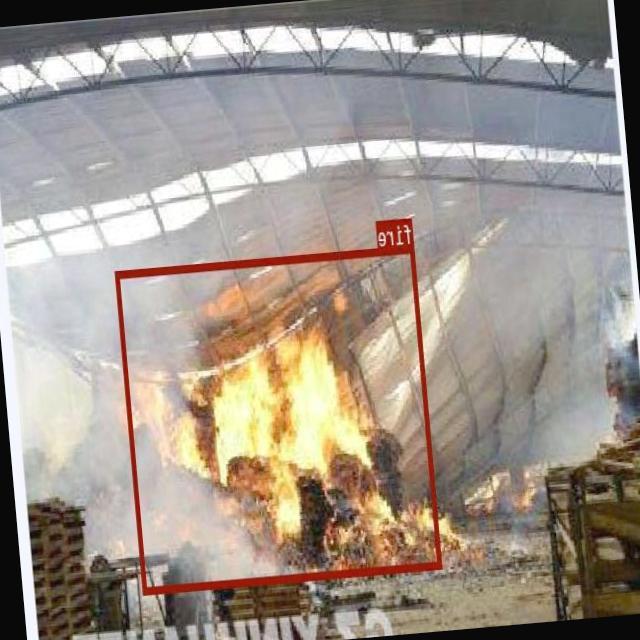fire: (116, 243, 442, 593)
